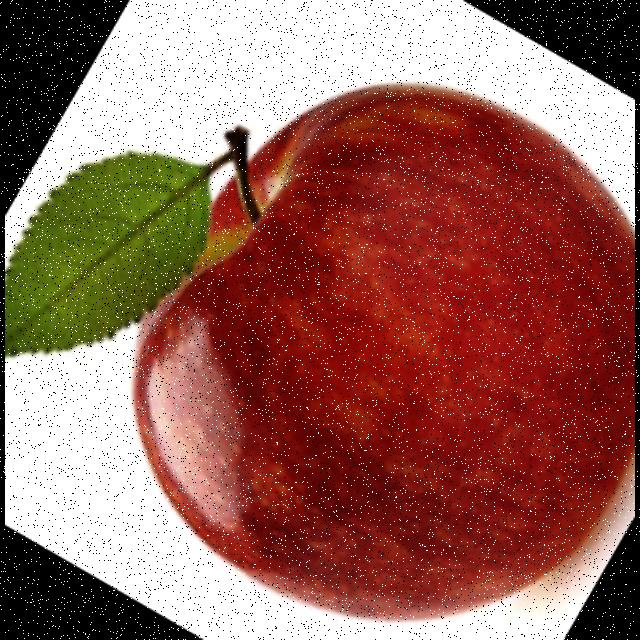Apel Segar: (112, 68, 636, 638)
